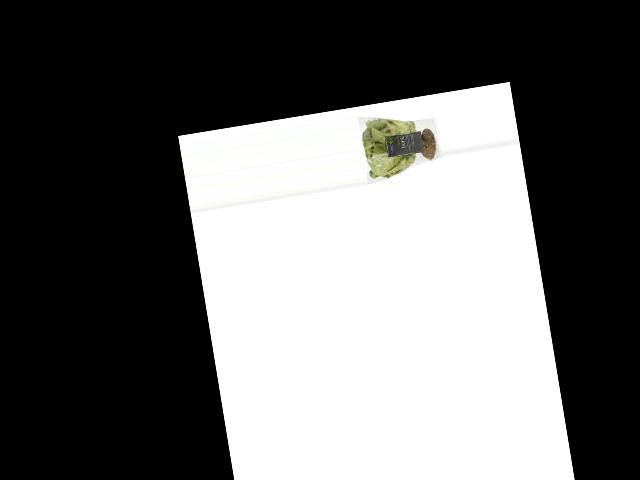lettuce: (358, 106, 444, 183)
